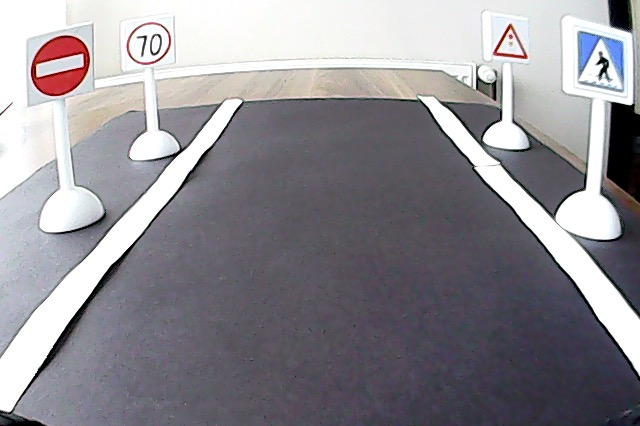do not enter: (26, 37, 92, 95)
pedestrian crossing: (571, 25, 631, 101)
red light: (488, 17, 528, 62)
speed limit 70: (123, 20, 173, 66)
